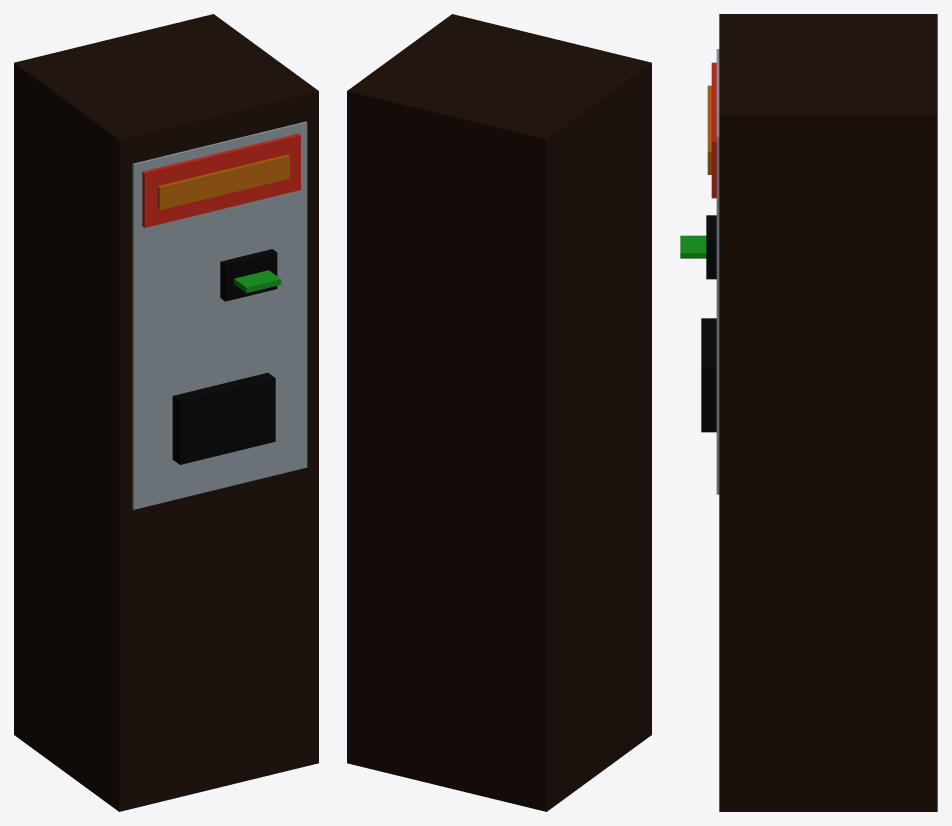
File: cozy_bowling_bill_changer.obj
3 views of the same model, side by side, from view 1: azimuth 30°, elevation 25°; view 2: azimuth 150°, elevation 25°; view 3: azimuth 270°, elevation 25° (orthographic). The views are drawn at different scales.
Parts seen in each view (by area): view 1: Changer_Mesh; view 2: Changer_Mesh; view 3: Changer_Mesh.
Boxes of the visible parts, x1=… form: Changer_Mesh: x1=14, y1=14, x2=318, y2=811; Changer_Mesh: x1=347, y1=14, x2=651, y2=811; Changer_Mesh: x1=680, y1=14, x2=937, y2=811.
Bounding box in the file's own units: 0.46 × 1.48 × 0.495.
